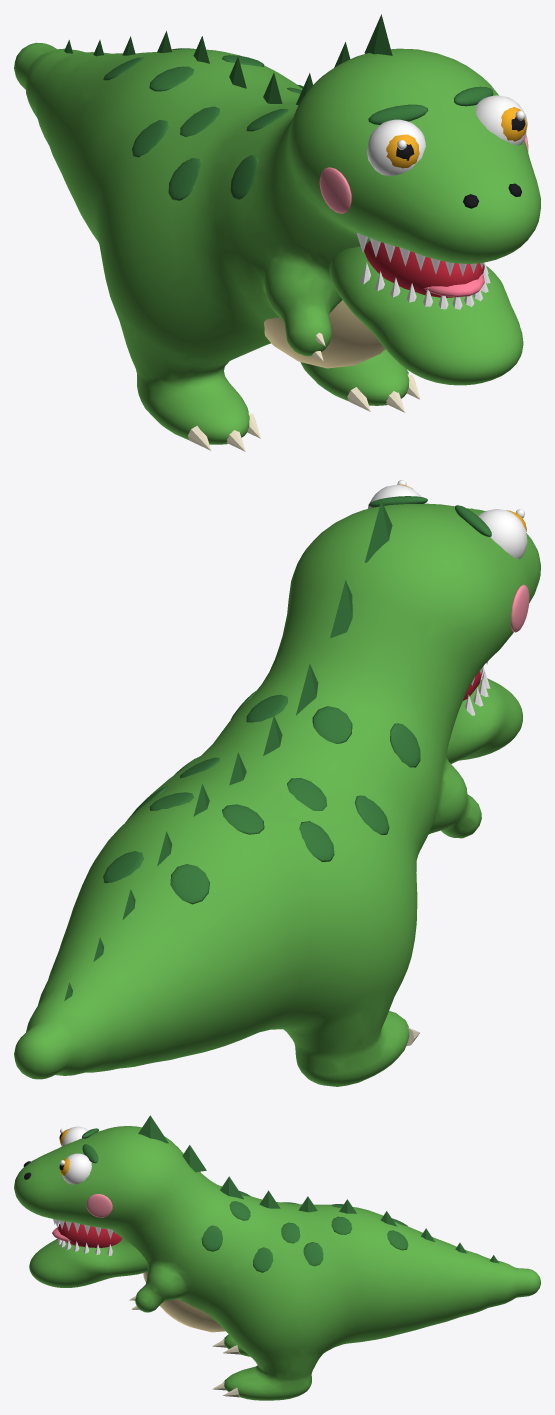
The model's file is trex_mignon.glb.
The picture shows the model from 3 angles, top to bottom: view 1: azimuth 30°, elevation 25°; view 2: azimuth 150°, elevation 25°; view 3: azimuth 270°, elevation 25°; orthographic projection. The views are drawn at different scales.
Parts seen in each view (by area): view 1: TRex; view 2: TRex; view 3: TRex.
Boxes of the visible parts, x1,y1,x2,y2 form: TRex: (14,14,540,451); TRex: (14,480,540,1086); TRex: (14,1115,540,1400).
Size of the model in its own units: 3.14 by 5.11 by 9.36.
1 material, 1 textured.
